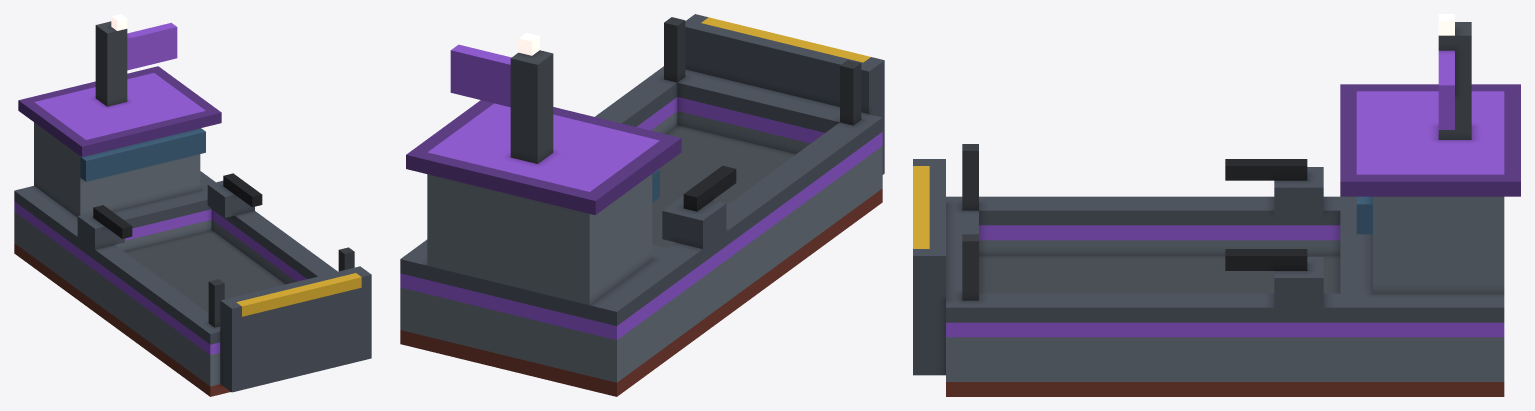
Rendered from cm_transport_4.glb.
The picture shows the model from 3 angles, left to right: view 1: azimuth 30°, elevation 25°; view 2: azimuth 150°, elevation 25°; view 3: azimuth 270°, elevation 25°; orthographic projection. The views are drawn at different scales.
Visible parts, largest first — view 1: cm_transport_4_body; view 2: cm_transport_4_body; view 3: cm_transport_4_body.
Boxes of the visible parts, x1=… form: cm_transport_4_body: x1=14, y1=14, x2=371, y2=396; cm_transport_4_body: x1=400, y1=14, x2=884, y2=396; cm_transport_4_body: x1=913, y1=14, x2=1520, y2=396.
Size of the model in its own units: 1 by 1.38 by 2.31.
Materials: 1 (1 with a texture image).
